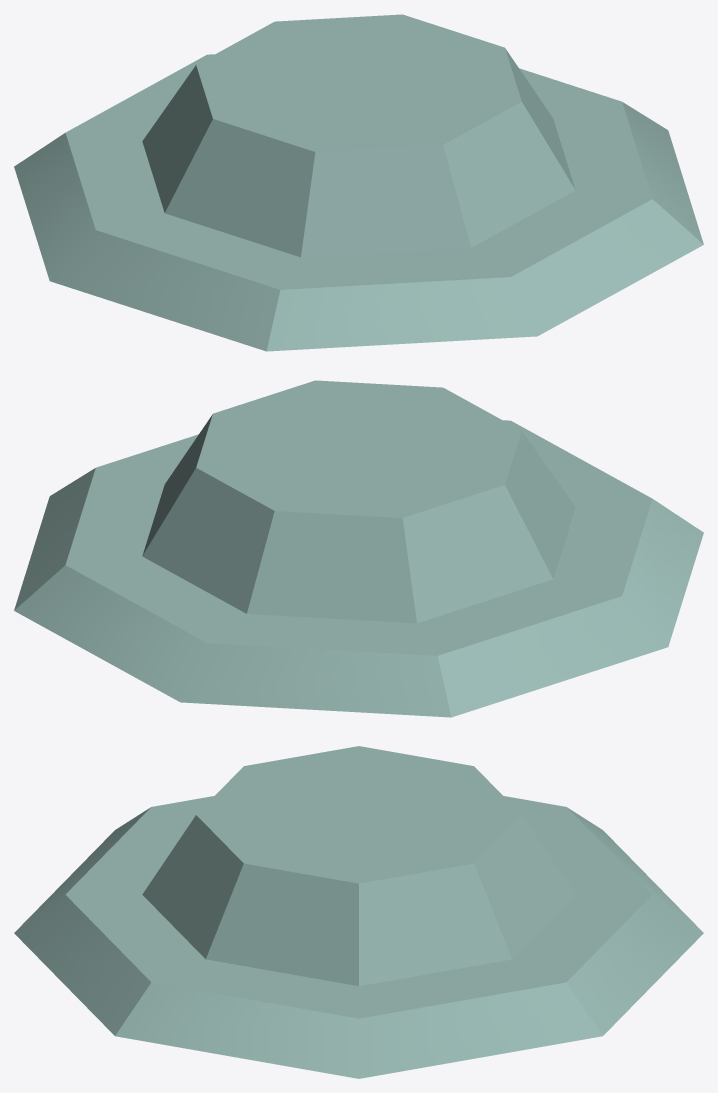
The model's file is Hat.fbx.
3 views of the same model, one above another, from view 1: azimuth 30°, elevation 25°; view 2: azimuth 150°, elevation 25°; view 3: azimuth 270°, elevation 25° (orthographic). The views are drawn at different scales.
Parts seen in each view (by area): view 1: pCube1; view 2: pCube1; view 3: pCube1.
Boxes of the visible parts, bbox=[...] form: pCube1: bbox=[14, 14, 703, 351]; pCube1: bbox=[14, 380, 703, 717]; pCube1: bbox=[14, 746, 703, 1078].
Size of the model in its own units: 60.04 by 11.36 by 60.04.
